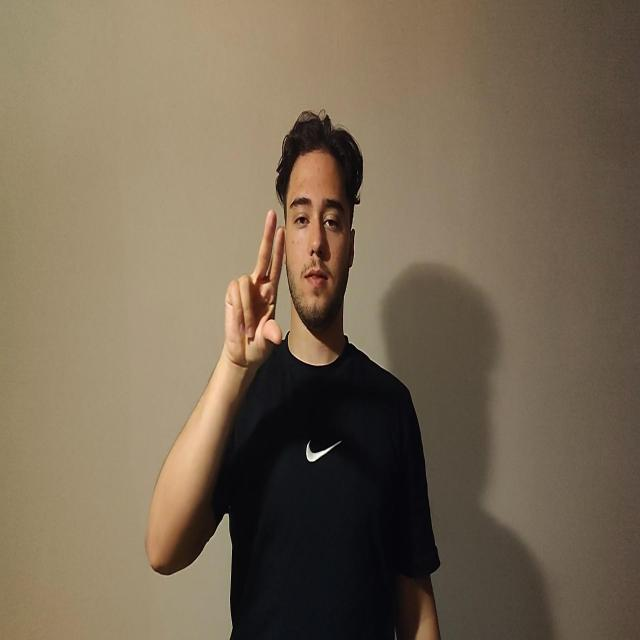no: (224, 208, 285, 371)
